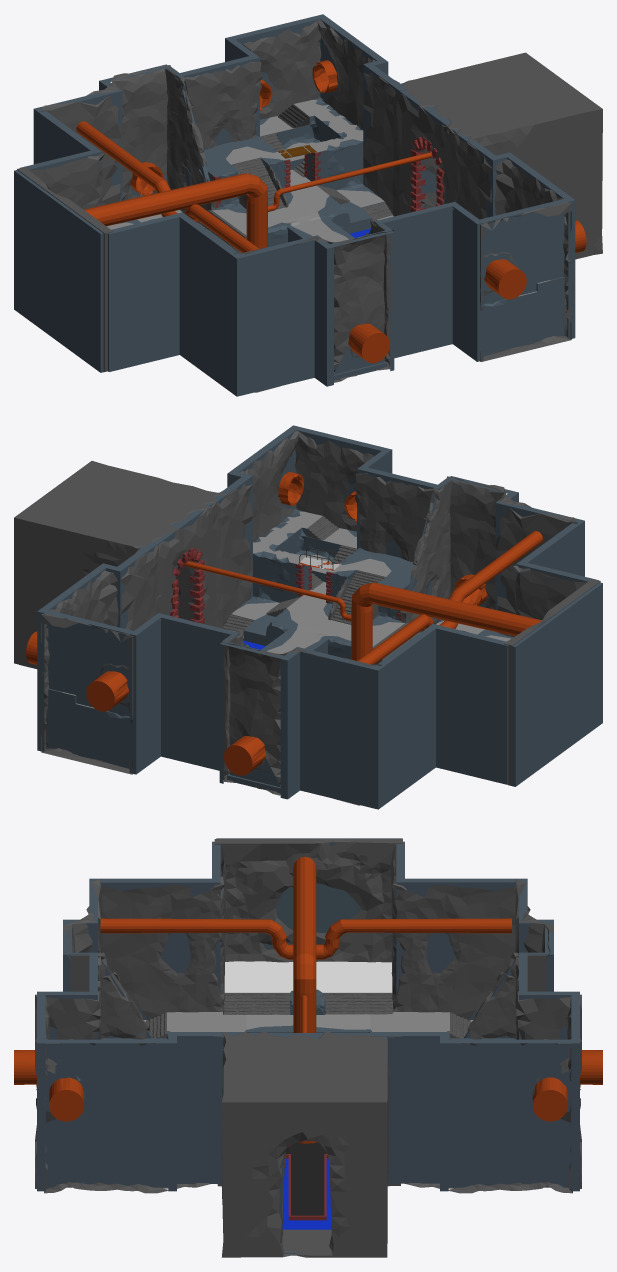
Rendered from Map_2.fbx.
3 renders of one model, top to bottom at view 1: azimuth 30°, elevation 25°; view 2: azimuth 150°, elevation 25°; view 3: azimuth 270°, elevation 25°, orthographic. The views are drawn at different scales.
Visible parts, largest first — view 1: Cube.041, Cube.018, Cube.056, Cube.007, Cube, Cube.009, Cube.010, Cube.046, Cylinder, Cube.012, Cube.040, Cube.045 (+12 smaller); view 2: Cube, Cube.018, Cube.056, Cube.040, Cube.041, Cube.046, Cube.045, Cube.009, Cylinder, Cube.043, Cube.007, Cube.010 (+12 smaller); view 3: Cube.018, Cube, Cube.041, Cube.056, Cube.008, Cube.047, Cylinder.007, Cube.052, Cylinder, Cube.042, Cube.013, Plane (+19 smaller).
Boxes of the visible parts, x1,y1,x2,y2 form: Cube.041: (108, 133, 575, 396); Cube.018: (395, 52, 602, 259); Cube.056: (14, 167, 112, 372); Cube.007: (107, 97, 393, 252); Cube: (20, 14, 406, 205); Cube.009: (41, 65, 170, 205); Cube.010: (317, 19, 399, 216); Cube.046: (234, 230, 393, 392); Cylinder: (84, 173, 267, 248); Cube.012: (184, 44, 262, 149); Cube.040: (334, 277, 564, 379); Cube.045: (454, 134, 567, 336); Cube: (37, 542, 508, 809); Cube.018: (14, 461, 227, 668); Cube.056: (504, 579, 602, 786); Cube.040: (229, 508, 513, 663); Cube.041: (215, 425, 598, 611); Cube.046: (447, 476, 577, 637); Cube.045: (216, 430, 299, 628); Cube.009: (220, 641, 381, 805); Cylinder: (351, 582, 541, 660); Cube.043: (353, 456, 433, 562); Cube.007: (48, 688, 280, 792); Cube.010: (45, 545, 159, 748); Cube.018: (221, 1032, 389, 1257); Cube: (370, 841, 579, 1191); Cube.041: (37, 841, 246, 1191); Cube.056: (214, 838, 402, 962); Cube.008: (390, 845, 518, 1020); Cube.047: (98, 845, 226, 1020); Cylinder.007: (100, 918, 511, 1032); Cube.052: (224, 961, 392, 992); Cylinder: (293, 856, 316, 1032); Cube.042: (70, 952, 149, 1039); Cube.013: (467, 952, 546, 1039); Plane: (285, 1142, 327, 1215).
Bounding box in the file's own units: 3581 × 1035 × 3364.
